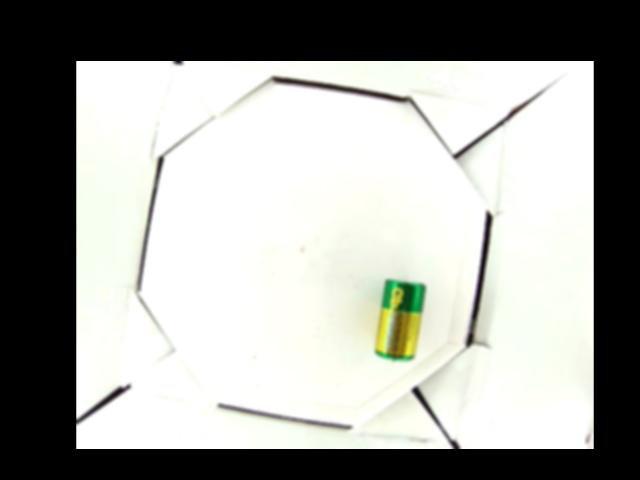Battery: (374, 278, 429, 361)
